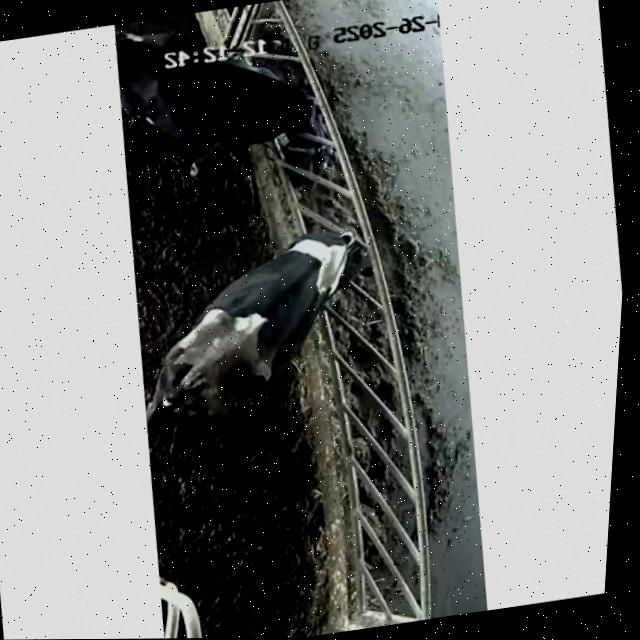eat: (222, 59, 361, 172), (278, 203, 404, 301)
